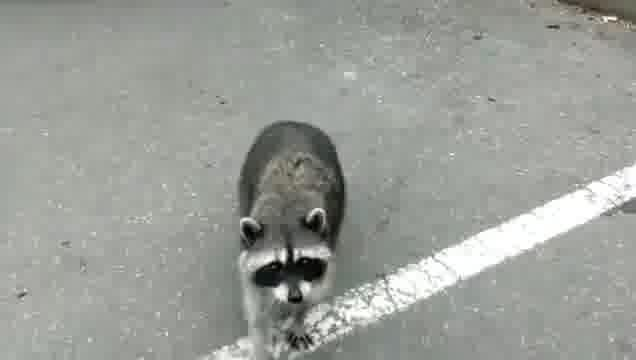raccoon: (236, 118, 347, 360)
